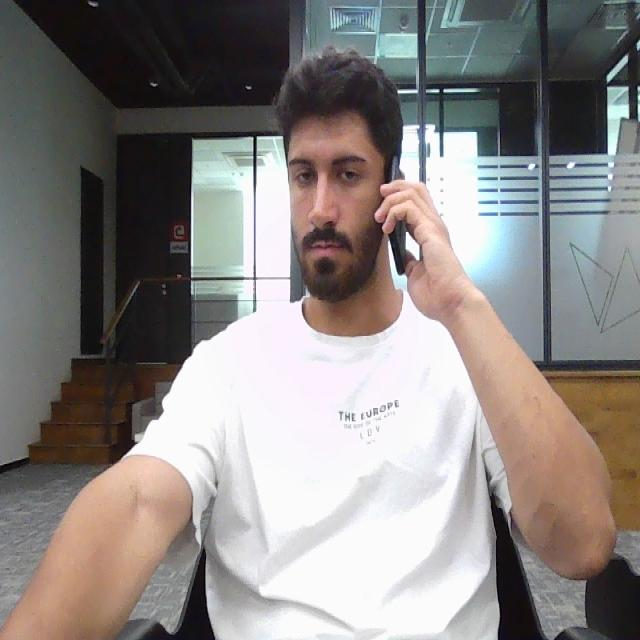phone: (384, 153, 412, 277)
